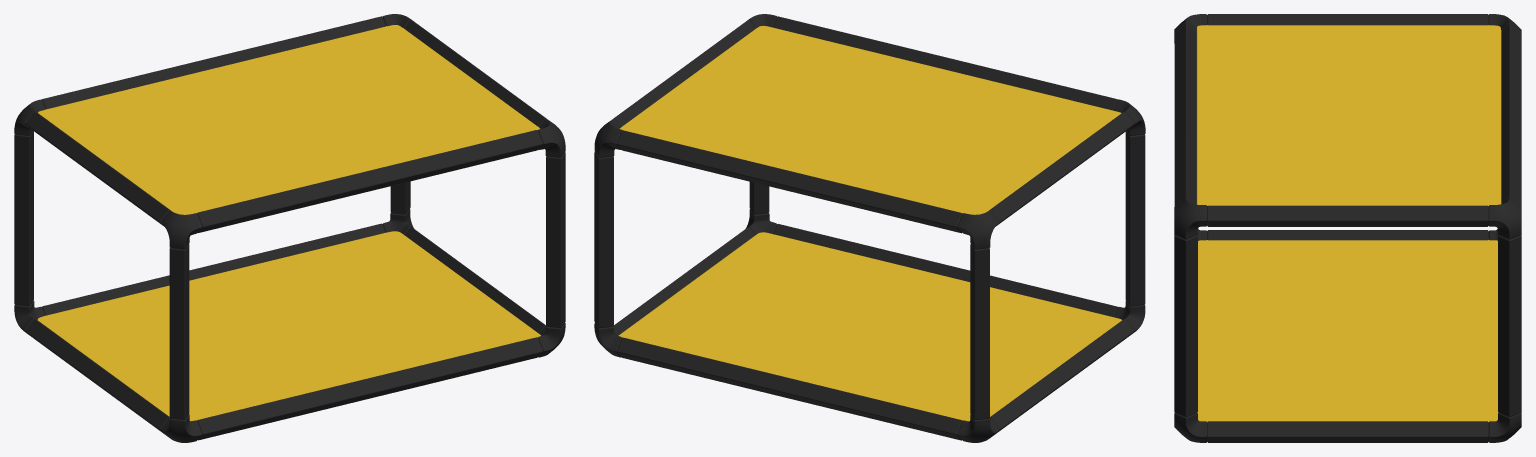
3 renders of one model, left to right at view 1: azimuth 30°, elevation 25°; view 2: azimuth 150°, elevation 25°; view 3: azimuth 270°, elevation 25°, orthographic. The views are drawn at different scales.
Parts seen in each view (by area): view 1: 479x329x229; view 2: 479x329x229; view 3: 479x329x229.
Boxes of the visible parts, x1=… form: 479x329x229: x1=14, y1=14, x2=565, y2=442; 479x329x229: x1=594, y1=14, x2=1145, y2=442; 479x329x229: x1=1174, y1=14, x2=1521, y2=442.
Size of the model in its own units: 0.5567 by 0.3065 by 0.4063.
